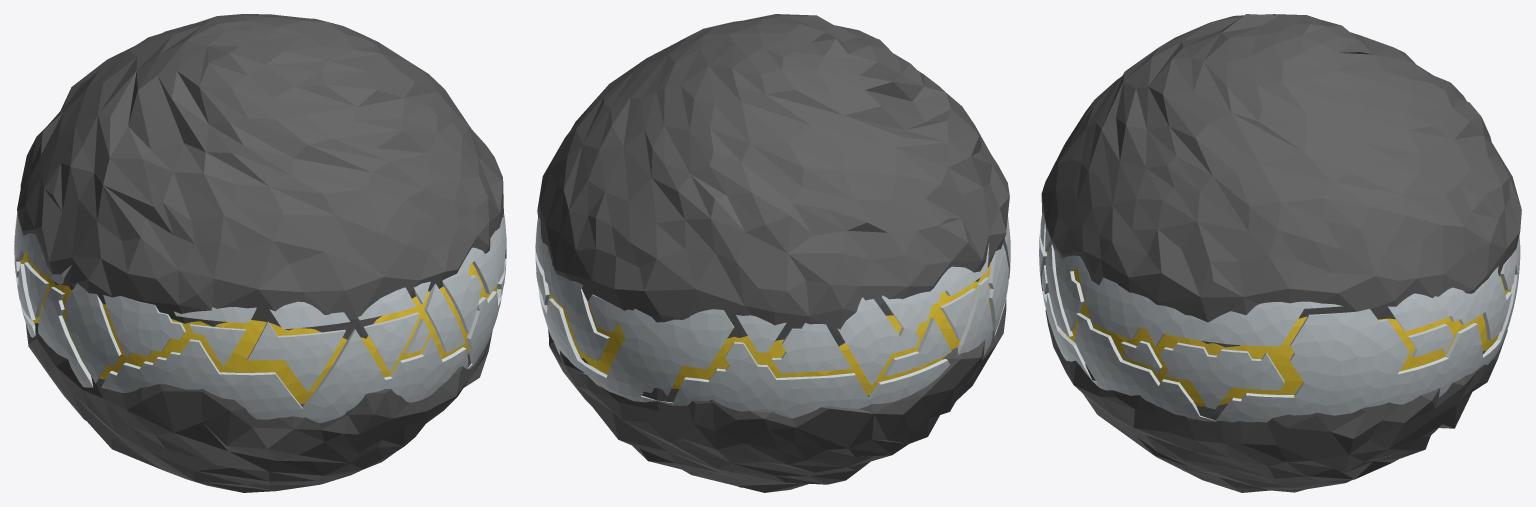
Rendered from Planet_31.glb.
3 renders of one model, left to right at view 1: azimuth 30°, elevation 25°; view 2: azimuth 150°, elevation 25°; view 3: azimuth 270°, elevation 25°, orthographic. The views are drawn at different scales.
Visible parts, largest first — view 1: Planet_31; view 2: Planet_31; view 3: Planet_31.
Part boxes in pixels (box(x1,y1,x2,y2)): Planet_31: box(14, 14, 506, 492); Planet_31: box(535, 14, 1010, 492); Planet_31: box(1039, 14, 1521, 492).
Bounding box in the file's own units: 20.03 × 19.94 × 20.06.
1 material, 1 textured.
